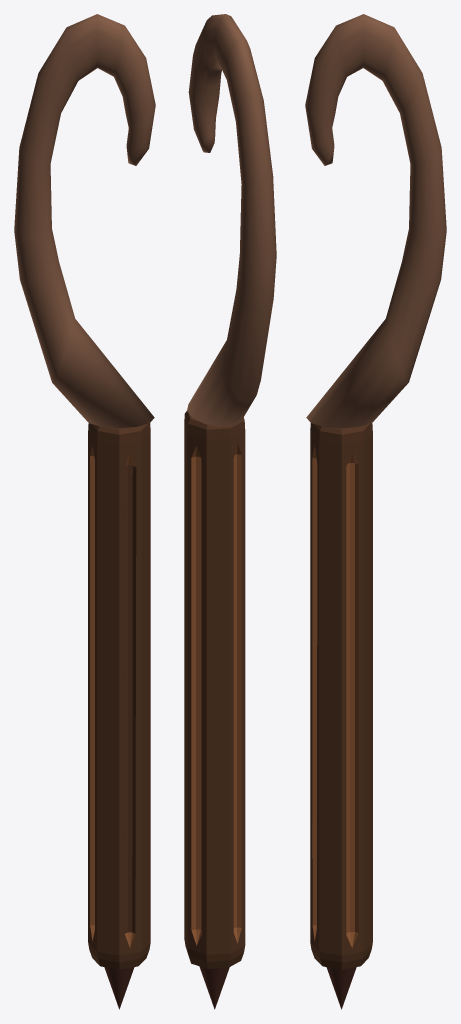
File: Wand 582.glb
The picture shows the model from 3 angles, left to right: view 1: azimuth 90°, elevation 25°; view 2: azimuth 210°, elevation 25°; view 3: azimuth 270°, elevation 25°; orthographic projection.
Visible parts, largest first — view 1: GeneratedWand; view 2: GeneratedWand; view 3: GeneratedWand.
Boxes of the visible parts, left/top/right/bottom form: GeneratedWand: left=14, top=14, right=155, bottom=1009; GeneratedWand: left=184, top=14, right=276, bottom=1009; GeneratedWand: left=305, top=14, right=446, bottom=1009.
Bounding box in the file's own units: 0.0289 × 0.5076 × 0.0654.
